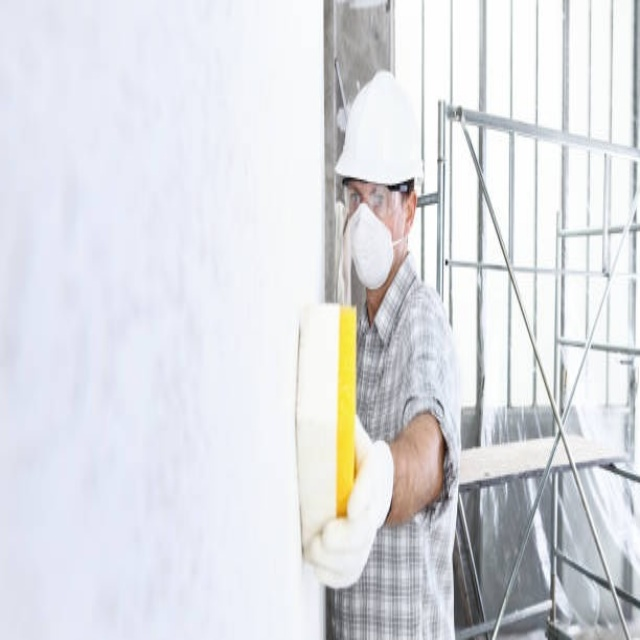Gafas: (344, 181, 413, 216)
Guantes: (304, 416, 395, 589)
Mascara: (348, 200, 400, 292)
